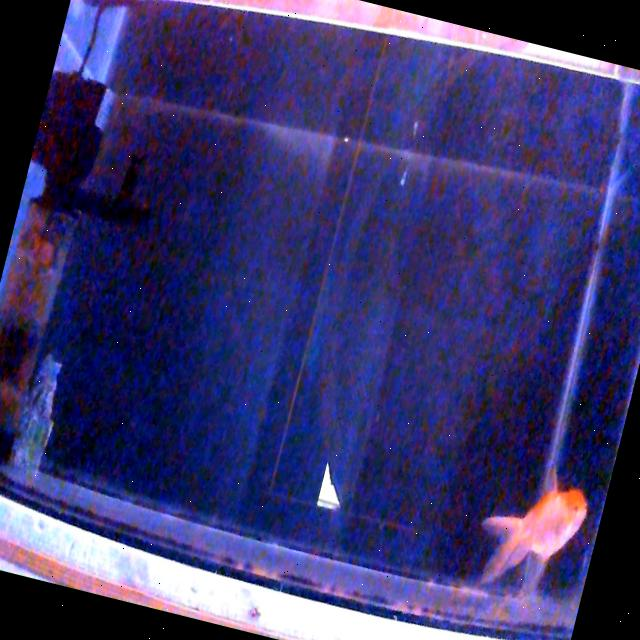fish: (464, 458, 594, 608)
